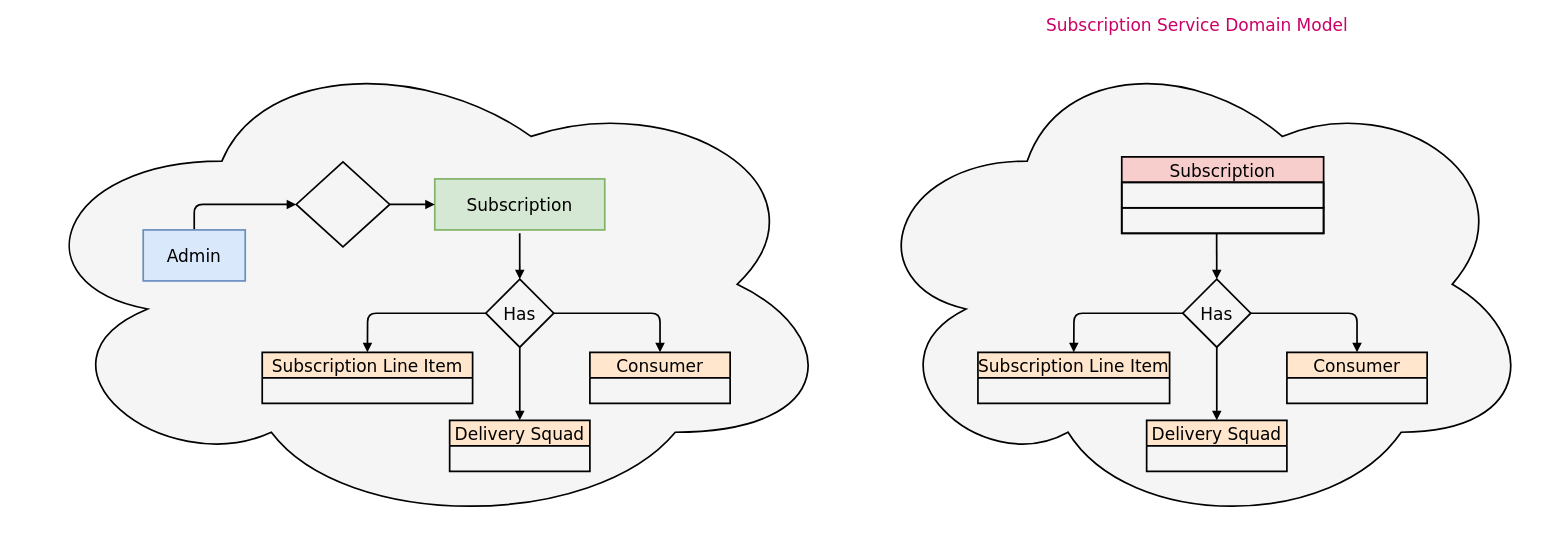
Some shapes in this 1552 by 546 pixel diagram are drawn without their labels. The centre of each missing label's shape, as x and y in pixels:
"Delivery Time" goes at point 1222,194.
"Manages" goes at point 342,204.
"Status" goes at point 1222,220.
